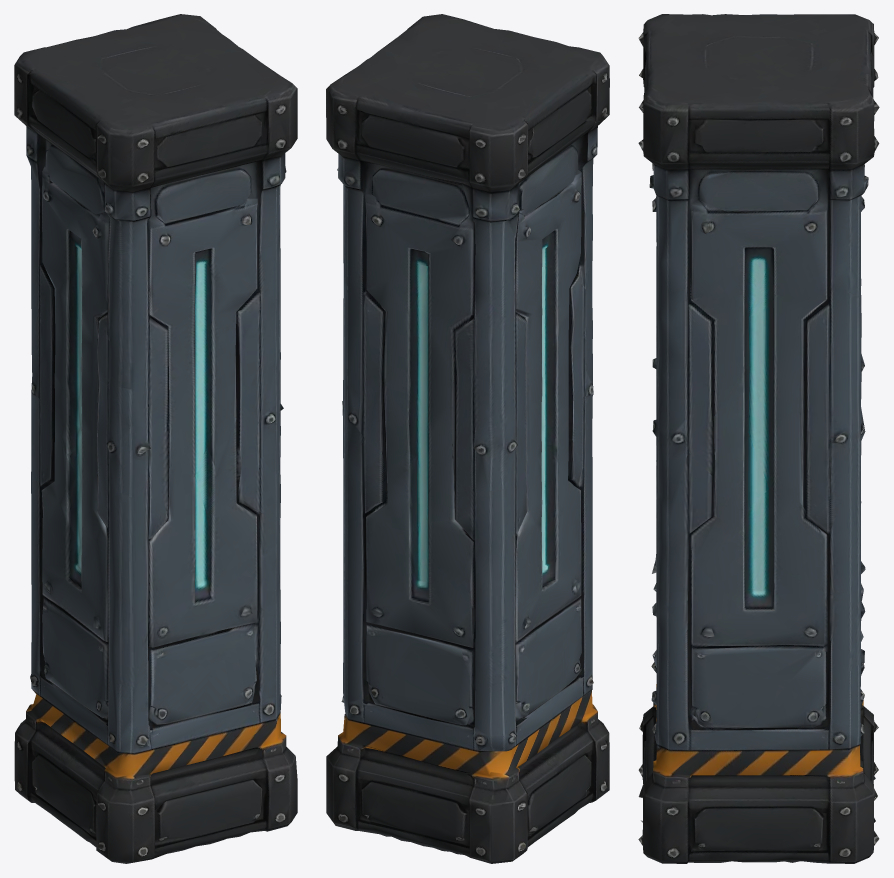
Rendered from pillar.glb.
3 views of the same model, side by side, from view 1: azimuth 30°, elevation 25°; view 2: azimuth 150°, elevation 25°; view 3: azimuth 270°, elevation 25° (orthographic). The views are drawn at different scales.
Parts seen in each view (by area): view 1: tripo_node_41113abf-65d5-467b-9ba2-cdfe279c0502; view 2: tripo_node_41113abf-65d5-467b-9ba2-cdfe279c0502; view 3: tripo_node_41113abf-65d5-467b-9ba2-cdfe279c0502.
Part boxes in pixels (x1=…): tripo_node_41113abf-65d5-467b-9ba2-cdfe279c0502: x1=14, y1=14, x2=297, y2=863; tripo_node_41113abf-65d5-467b-9ba2-cdfe279c0502: x1=326, y1=14, x2=609, y2=863; tripo_node_41113abf-65d5-467b-9ba2-cdfe279c0502: x1=638, y1=14, x2=879, y2=863.
Size of the model in its own units: 0.2812 by 1 by 0.287.
1 material, 1 textured.
